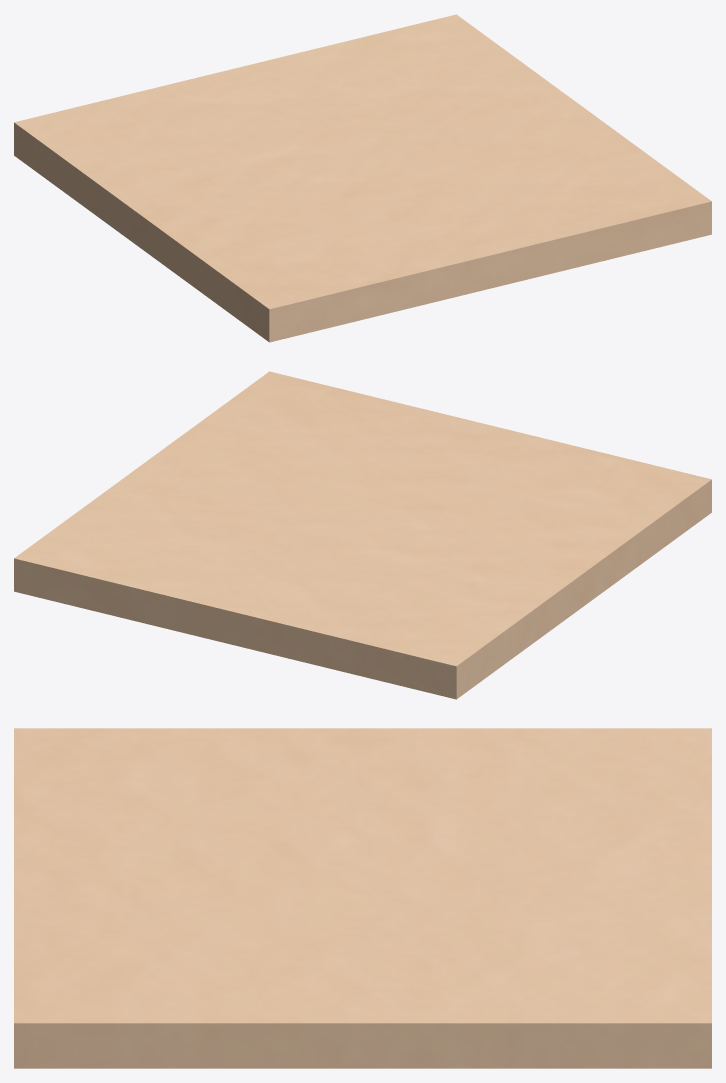
File: Floor_Tile_B.fbx
3 renders of one model, top to bottom at view 1: azimuth 30°, elevation 25°; view 2: azimuth 150°, elevation 25°; view 3: azimuth 270°, elevation 25°, orthographic. The views are drawn at different scales.
Visible parts, largest first — view 1: Floor_Tile_B; view 2: Floor_Tile_B; view 3: Floor_Tile_B.
Part boxes in pixels (x1=…): Floor_Tile_B: x1=14, y1=14, x2=711, y2=342; Floor_Tile_B: x1=14, y1=371, x2=711, y2=699; Floor_Tile_B: x1=14, y1=728, x2=711, y2=1068.
Bounding box in the file's own units: 1 × 0.0717 × 1.
1 material, 1 textured.
